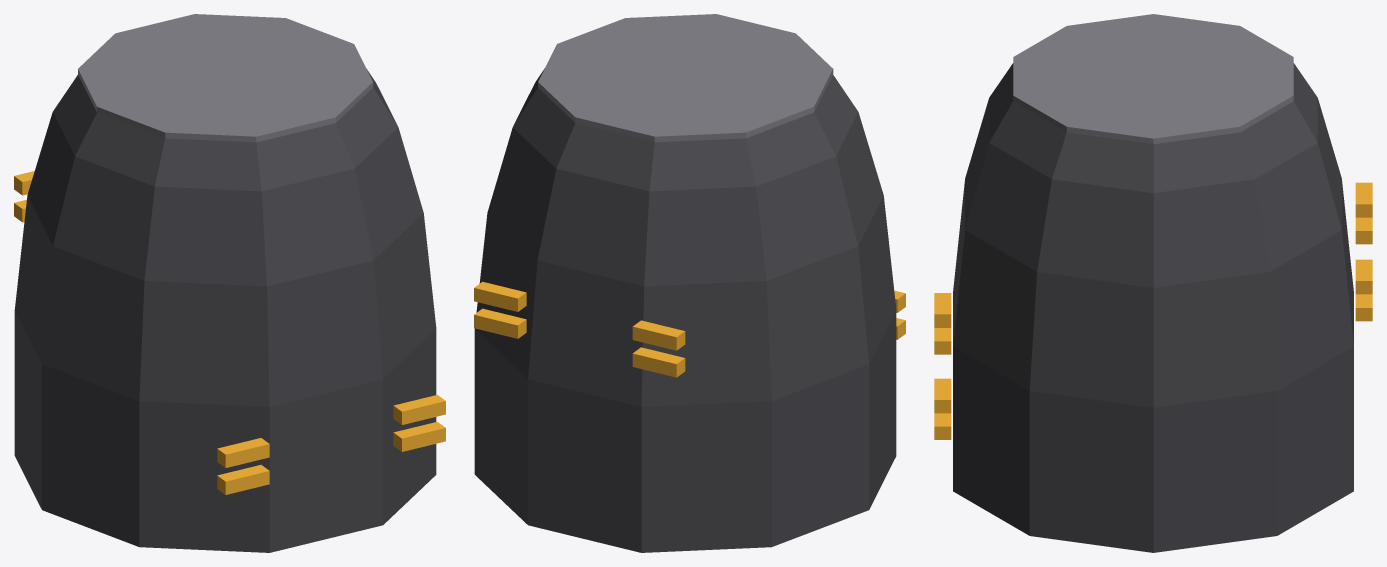
Rendered from collar.glb.
3 views of the same model, side by side, from view 1: azimuth 30°, elevation 25°; view 2: azimuth 150°, elevation 25°; view 3: azimuth 270°, elevation 25° (orthographic).
Parts seen in each view (by area): view 1: collar; view 2: collar; view 3: collar.
Part boxes in pixels (left/top/right/bottom): collar: left=14, top=14, right=445, bottom=552; collar: left=474, top=14, right=905, bottom=552; collar: left=934, top=14, right=1372, bottom=552.
Bounding box in the file's own units: 1 × 1.01 × 1.04.
